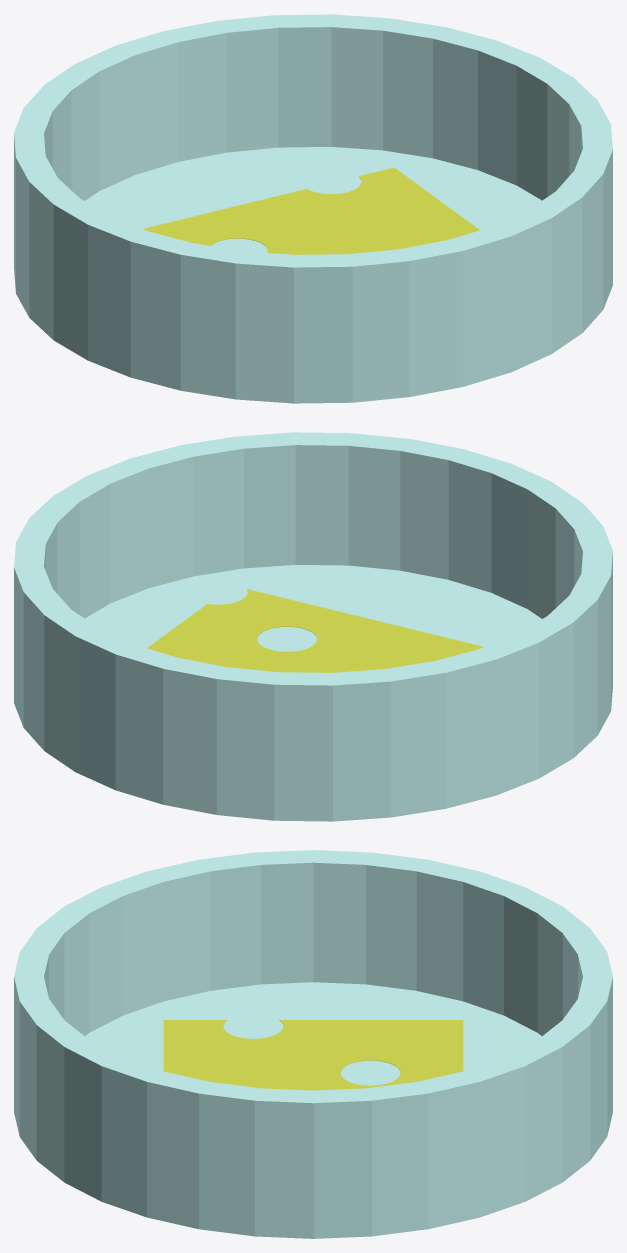
File: petriSchaal met kaas.glb
3 views of the same model, one above another, from view 1: azimuth 30°, elevation 25°; view 2: azimuth 150°, elevation 25°; view 3: azimuth 270°, elevation 25° (orthographic).
Parts seen in each view (by area): view 1: Cylinder, Cube; view 2: Cylinder, Cube; view 3: Cylinder, Cube.
Boxes of the visible parts, x1,y1,x2,y2 form: Cylinder: (14, 14, 612, 403); Cube: (143, 167, 479, 254); Cylinder: (14, 432, 612, 821); Cube: (147, 589, 483, 672); Cylinder: (14, 850, 612, 1238); Cube: (163, 1020, 463, 1090).
Bounding box in the file's own units: 2 × 0.5 × 2.
